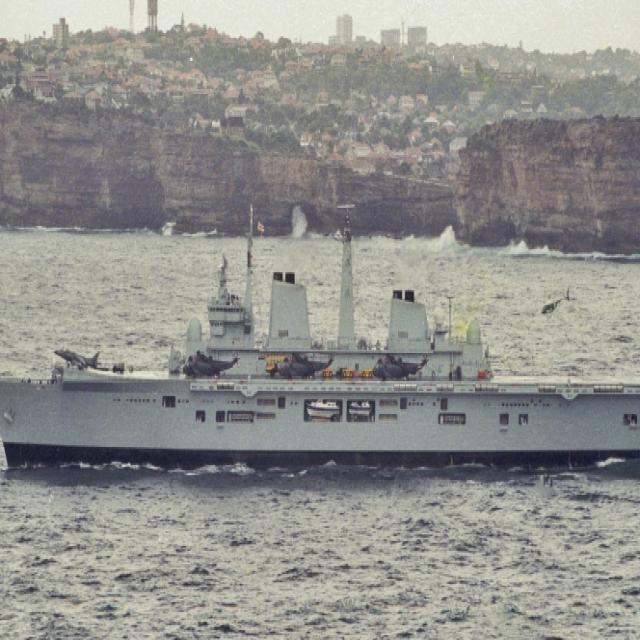Portanaves: (1, 196, 640, 481)
